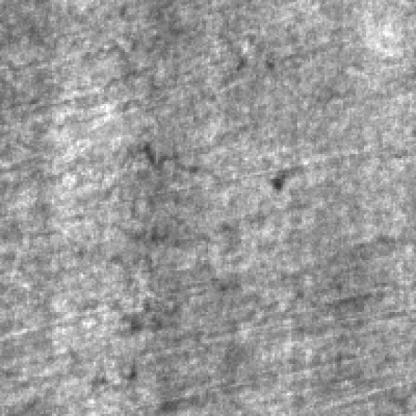crazing: (104, 116, 258, 279)
